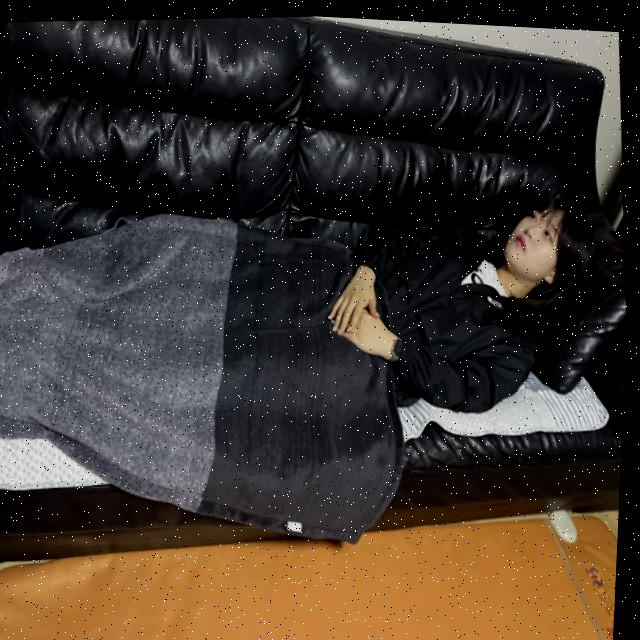sleeping-person: (0, 126, 623, 540)
